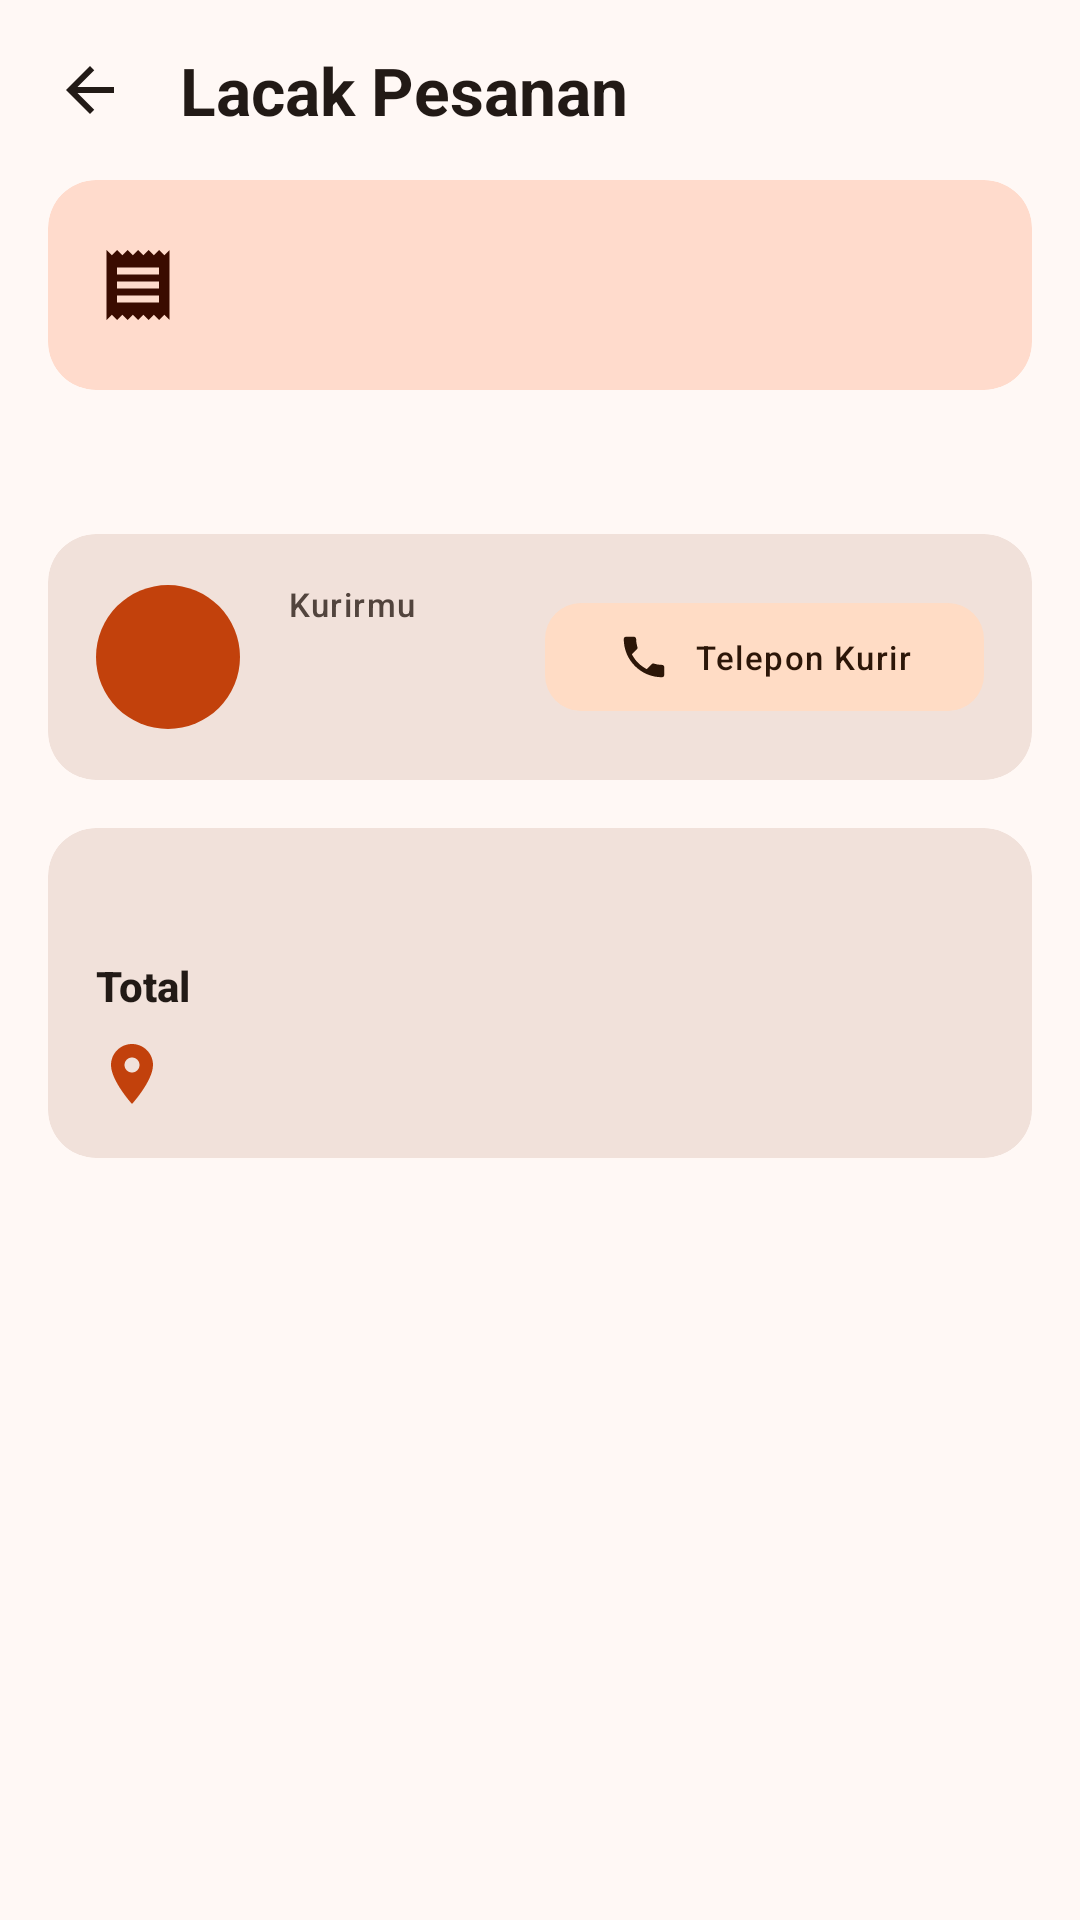

Icon click points for this 1080x1920 phone screenshot, format (x,y):
receipt: (138,285)
